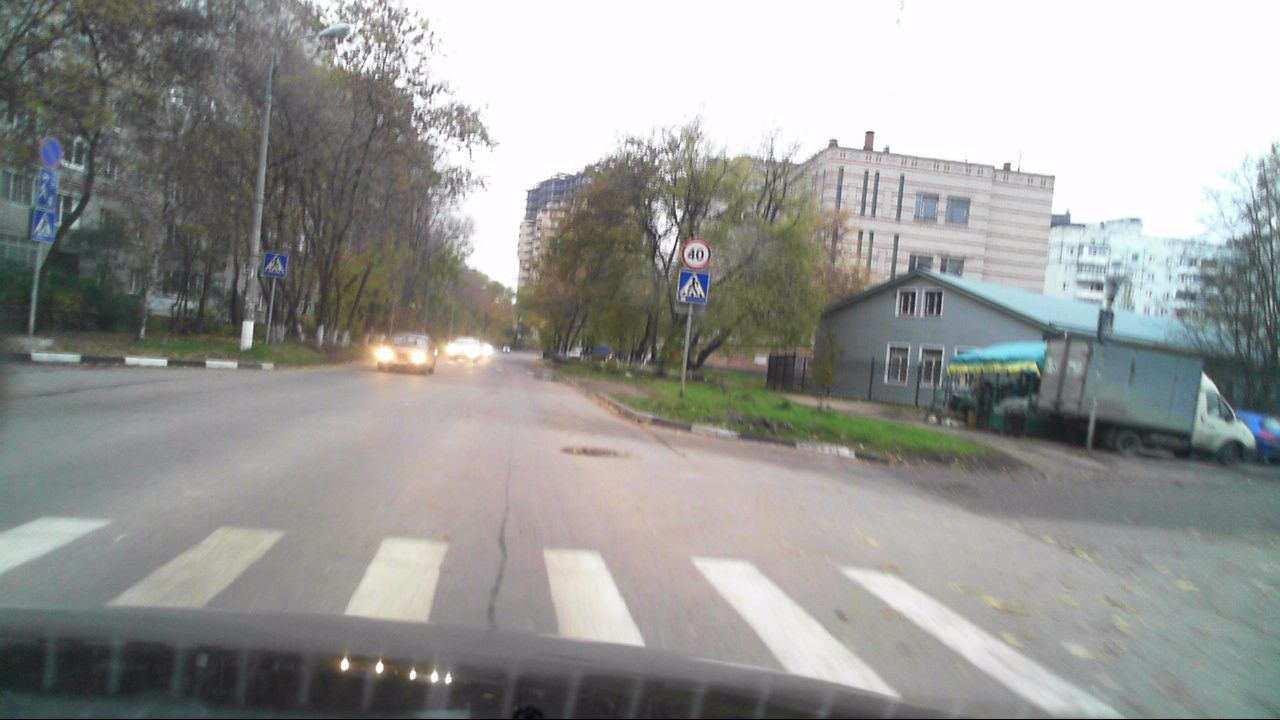speed_warning_40: (683, 241, 710, 269)
